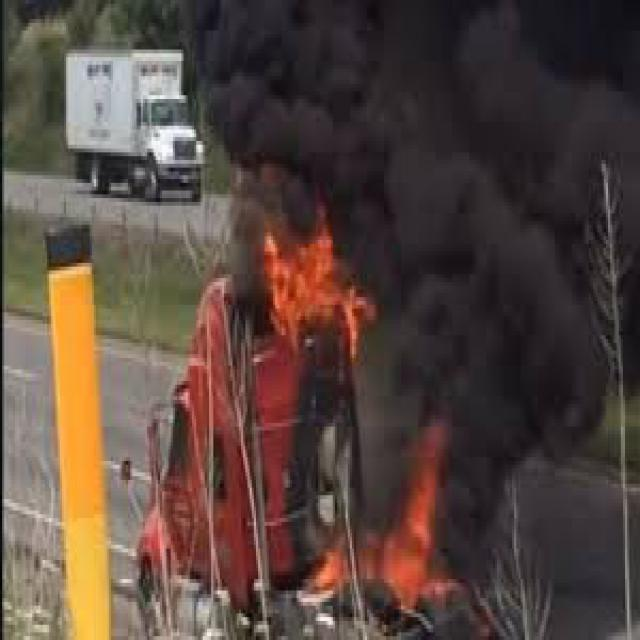Fire: (236, 222, 380, 344), (311, 502, 431, 599)
Smoke: (237, 0, 640, 176), (366, 205, 596, 500)
